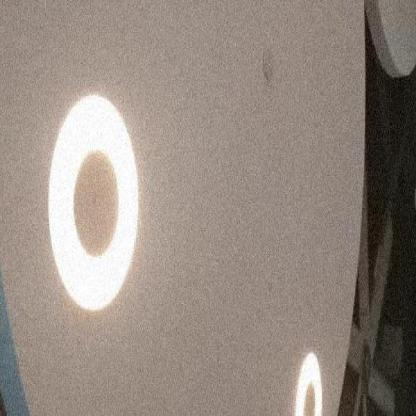light_on: (32, 66, 149, 356), (282, 324, 334, 414)
